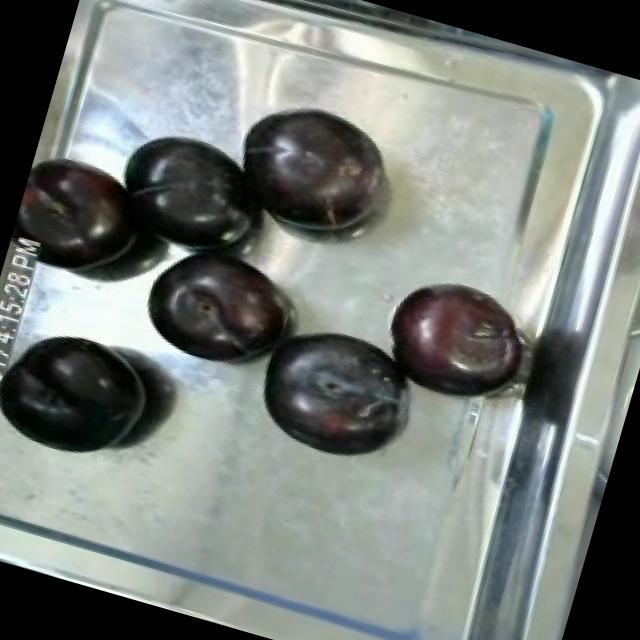Fruit: (213, 87, 405, 253), (242, 310, 422, 472), (128, 228, 310, 384), (0, 309, 168, 476), (369, 262, 532, 411), (10, 142, 153, 272)
